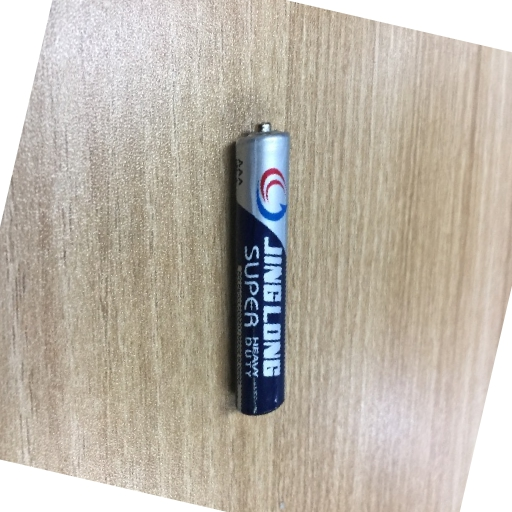Battery_0: (215, 103, 315, 430)
